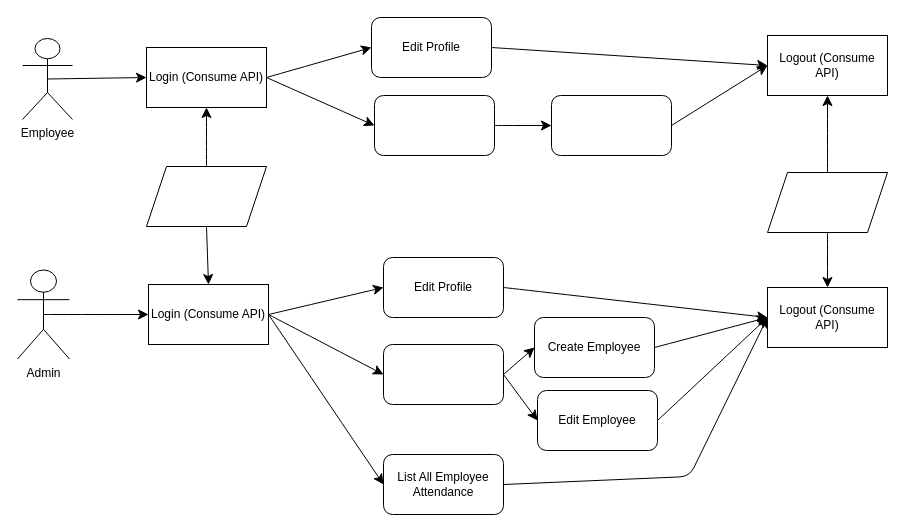
Some shapes in this 905 by 532 pixel diagram are drawn without their labels. The box of each missing label's shape, as (x1, y1, x2, y2) in pixels:
API Login: (146, 166, 266, 226)
API Logout: (766, 172, 888, 232)
Fill Attendance Today: (550, 94, 672, 156)
List All Employee: (382, 344, 504, 404)
List Self Attendance: (374, 94, 494, 156)
